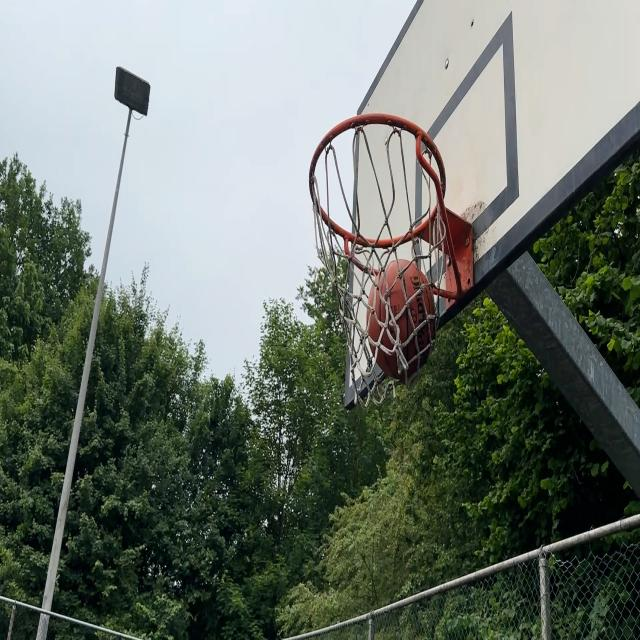Goal: (366, 258, 436, 377)
